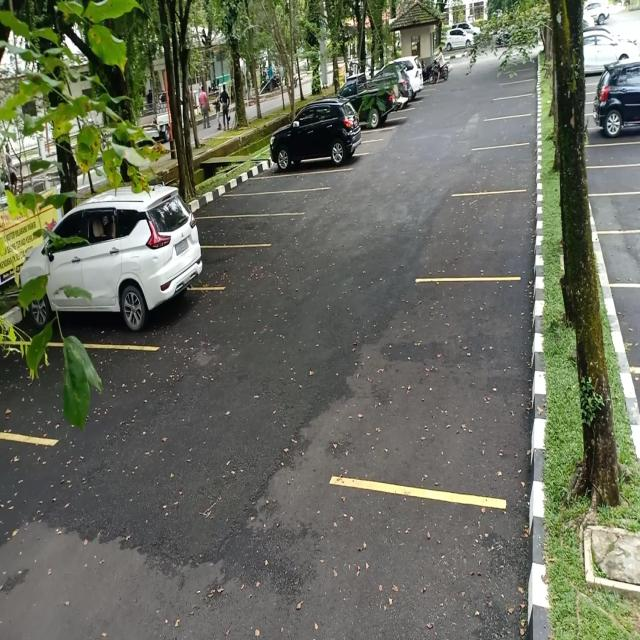empty: (352, 280, 528, 501), (437, 192, 533, 280), (200, 214, 295, 248), (471, 145, 535, 192), (215, 192, 307, 215), (605, 229, 640, 287), (594, 192, 640, 234), (483, 116, 535, 144), (590, 166, 640, 194), (243, 176, 323, 193), (586, 143, 640, 168)
occupied: (18, 244, 206, 349), (267, 126, 364, 176), (590, 95, 640, 147)
